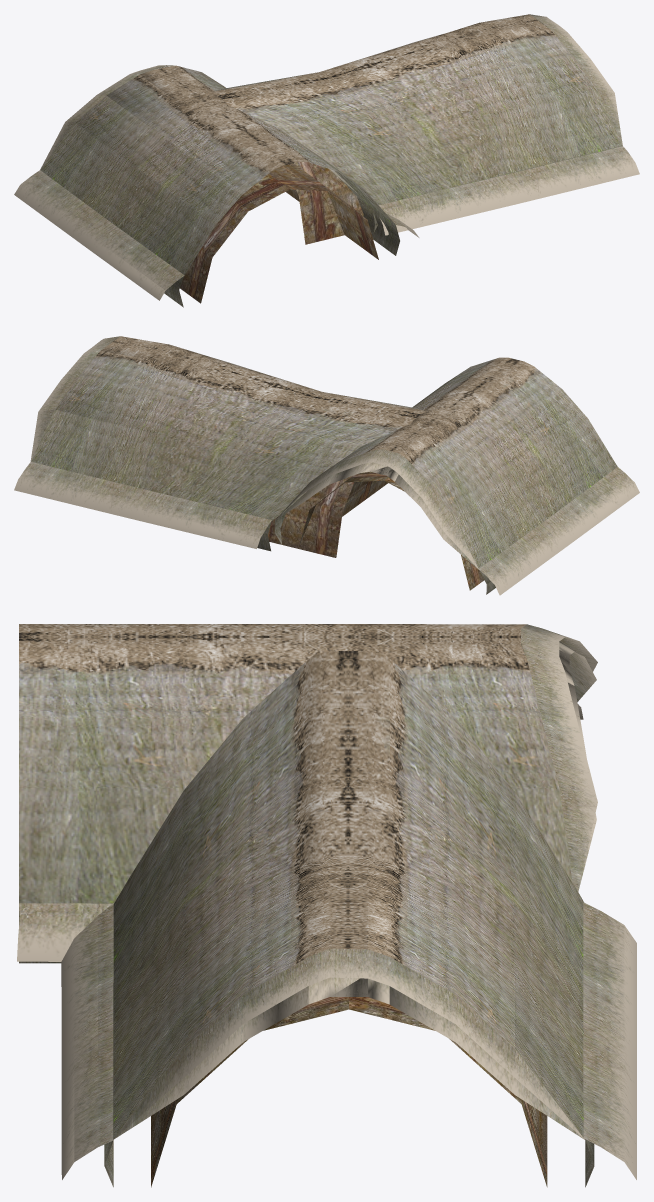
File: Roof_3.fbx
3 views of the same model, one above another, from view 1: azimuth 30°, elevation 25°; view 2: azimuth 150°, elevation 25°; view 3: azimuth 270°, elevation 25° (orthographic). The views are drawn at different scales.
Visible parts, largest first — view 1: Mesh; view 2: Mesh; view 3: Mesh.
Boxes of the visible parts, bbox=[...] form: Mesh: bbox=[14, 14, 639, 307]; Mesh: bbox=[14, 336, 639, 595]; Mesh: bbox=[17, 624, 636, 1187].
Bounding box in the file's own units: 3863 × 905 × 2167.
